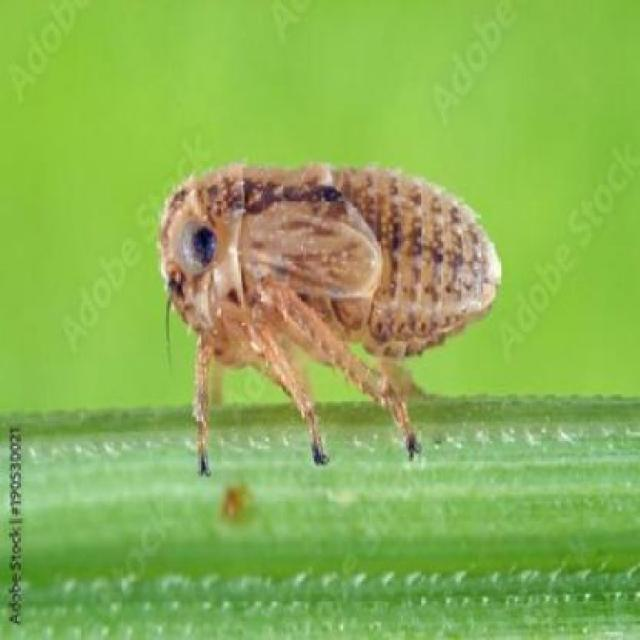brown-planthopper: (155, 162, 499, 477)
